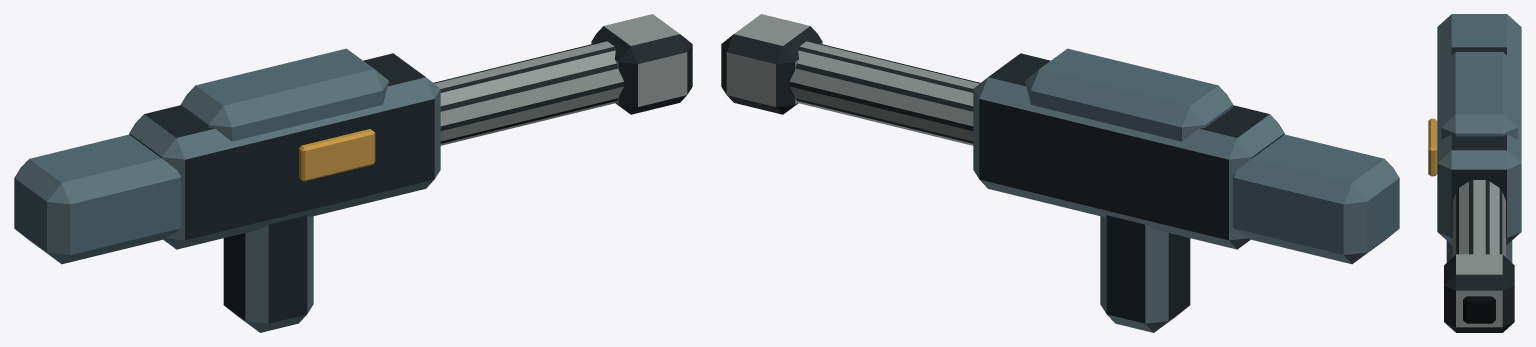
File: weapon_rifle.glb
The picture shows the model from 3 angles, left to right: view 1: azimuth 30°, elevation 25°; view 2: azimuth 150°, elevation 25°; view 3: azimuth 270°, elevation 25°; orthographic projection. The views are drawn at different scales.
Visible parts, largest first — view 1: Rifle receiver, Rifle stock, Rifle barrel, Rifle top housing, Rifle magazine, Rifle muzzle, Rifle ochre mark; view 2: Rifle receiver, Rifle stock, Rifle barrel, Rifle top housing, Rifle magazine, Rifle muzzle; view 3: Rifle receiver, Rifle top housing, Rifle muzzle, Rifle barrel, Rifle stock, Rifle dark bore, Rifle ochre mark, Rifle magazine.
Part boxes in pixels (left/top/right/bottom): Rifle receiver: left=129, top=53, right=440, bottom=249; Rifle stock: left=14, top=134, right=181, bottom=264; Rifle barrel: left=433, top=41, right=624, bottom=145; Rifle top housing: left=180, top=48, right=389, bottom=141; Rifle magazine: left=223, top=215, right=313, bottom=332; Rifle muzzle: left=591, top=14, right=692, bottom=114; Rifle ochre mark: left=299, top=129, right=375, bottom=181; Rifle receiver: left=973, top=53, right=1284, bottom=249; Rifle stock: left=1232, top=134, right=1399, bottom=264; Rifle barrel: left=789, top=41, right=980, bottom=145; Rifle top housing: left=1024, top=48, right=1233, bottom=141; Rifle magazine: left=1100, top=215, right=1190, bottom=332; Rifle muzzle: left=721, top=14, right=822, bottom=114; Rifle receiver: left=1437, top=47, right=1521, bottom=244; Rifle top housing: left=1441, top=52, right=1517, bottom=139; Rifle muzzle: left=1444, top=254, right=1514, bottom=332; Rifle barrel: left=1452, top=180, right=1505, bottom=256; Rifle stock: left=1437, top=14, right=1521, bottom=59; Rifle dark bore: left=1463, top=296, right=1495, bottom=323; Rifle ochre mark: left=1428, top=118, right=1437, bottom=176; Rifle magazine: left=1446, top=240, right=1512, bottom=262.
Bounding box in the file's own units: 0.798 × 0.2785 × 0.116.
